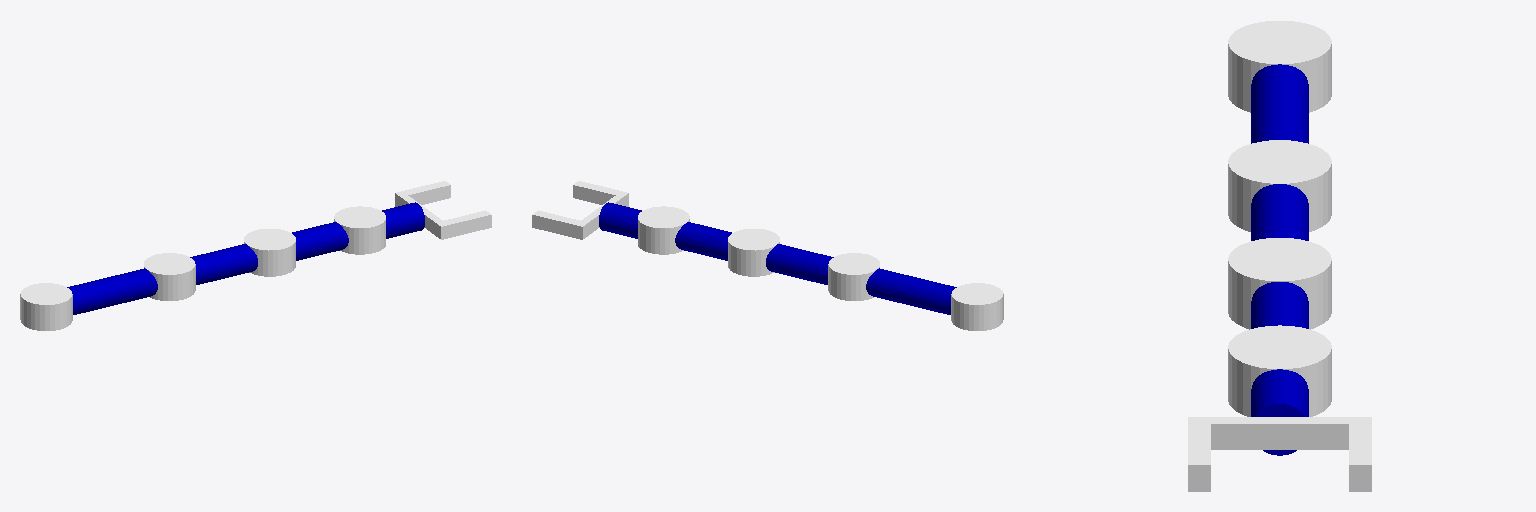
The robot description file, URDF, robot "planar4dof":
<?xml version="1.0" ?>
<!-- =================================================================================== -->
<!-- |    This document was autogenerated by xacro from planar4dof.xacro               | -->
<!-- |    EDITING THIS FILE BY HAND IS NOT RECOMMENDED                                 | -->
<!-- =================================================================================== -->
<!-- Planar 4DoF robot (based on Revolute-Revolute Manipulator) -->
<robot name="planar4dof" xmlns:xacro="http://www.ros.org/wiki/xacro">
    <material name="black">
        <color rgba="0.0 0.0 0.0 1.0"/>
    </material>
    <material name="blue">
        <color rgba="0.0 0.0 0.8 1.0"/>
    </material>
    <material name="green">
        <color rgba="0.0 0.8 0.0 1.0"/>
    </material>
    <material name="grey">
        <color rgba="0.2 0.2 0.2 1.0"/>
    </material>
    <material name="orange">
        <color rgba="1.0 0.423529411765 0.0392156862745 1.0"/>
    </material>
    <material name="brown">
        <color rgba="0.870588235294 0.811764705882 0.764705882353 1.0"/>
    </material>
    <material name="red">
        <color rgba="0.8 0.0 0.0 1.0"/>
    </material>
    <material name="white">
        <color rgba="1.0 1.0 1.0 1.0"/>
    </material>
    <!-- Used for fixing robot to Gazebo 'base_link' -->
    <link name="world"/>
    <!--<joint name="fixed" type="fixed">-->
    <!--<parent link="world"/>-->
    <!--<child link="link1"/>-->
    <!--<origin xyz="0 0 ${base_z}" rpy="0 0 0"/>-->
    <!--</joint>-->
    <joint name="fixed" type="fixed">
        <parent link="world"/>
        <child link="base_link"/>
        <origin rpy="0 0 0" xyz="0 0 0.0"/>
    </joint>
    <link name="base_link">
        <collision>
            <origin rpy="0 0 0" xyz="0 0 0.015"/>
            <geometry>
                <cylinder length="0.03" radius="0.01"/>
            </geometry>
        </collision>
        <visual>
            <origin rpy="0 0 0" xyz="0 0 0.015"/>
            <geometry>
                <cylinder length="0.03" radius="0.01"/>
            </geometry>
            <material name="black"/>
        </visual>
        <inertial>
            <origin rpy="0 0 0" xyz="0 0 0.015"/>
            <mass value="1.47969013984"/>
            <inertia ixx="0.000147969013984" ixy="0.0" ixz="0.0"
                     iyy="0.000147969013984" iyz="0.0" izz="7.3984506992e-05"/>
        </inertial>
    </link>
<!--    <joint name="joint0" type="continuous">-->
    <joint name="joint0" type="revolute">
        <parent link="base_link"/>
        <child link="coupler0"/>
        <origin rpy="0 0 0" xyz="0 0 0.04"/>
        <limit effort="100.0" lower="-2.18" upper="2.18" velocity="0.5"/>
        <axis xyz="0 0 1"/>
        <dynamics damping="0.7"/>
    </joint>
    <link name="coupler0">
        <collision>
            <origin rpy="0 0 0" xyz="0 0 0"/>
            <geometry>
                <!--<sphere radius="${radius_axel}"/>-->
                <cylinder length="0.05" radius="0.045"/>
            </geometry>
        </collision>
        <visual>
            <origin rpy="0 0 0" xyz="0 0 0"/>
            <geometry>
                <!--<sphere radius="${radius_axel}"/>-->
                <cylinder length="0.05" radius="0.045"/>
            </geometry>
            <material name="white"/>
        </visual>
        <inertial>
            <origin rpy="0 0 0" xyz="0 0 0"/>
            <mass value="0.001"/>
            <inertia ixx="0.001" ixy="0.0" ixz="0.0" iyy="0.001" iyz="0.0"
                     izz="0.001"/>
        </inertial>
    </link>
    <joint name="coupler_joint0" type="fixed">
        <parent link="coupler0"/>
        <child link="link1"/>
        <origin rpy="0 0 0" xyz="0 0 0"/>
    </joint>
    <!-- Base Link -->
    <link name="link1">
        <collision>
            <origin rpy="1.57079632679 0 1.57079632679" xyz="0.105 0 0"/>
            <geometry>
                <cylinder length="0.21" radius="0.025"/>
            </geometry>
        </collision>
        <visual>
            <origin rpy="1.57079632679 0 1.57079632679" xyz="0.105 0 0"/>
            <geometry>
                <cylinder length="0.21" radius="0.025"/>
            </geometry>
            <material name="blue"/>
        </visual>
        <inertial>
            <origin rpy="1.57079632679 0 1.57079632679" xyz="0.105 0 0"/>
            <mass value="0.890641517293"/>
            <inertia ixx="0.00341227031313" ixy="0.0" ixz="0.0"
                     iyy="0.00341227031313" iyz="0.0" izz="0.000278325474154"/>
        </inertial>
    </link>
    <!--<joint name="joint1" type="continuous">-->
    <!--<parent link="link1"/>-->
    <!--<child link="link2"/>-->
    <!--<origin xyz="${height1 + axel_offset} 0 0" rpy="0 0 0"/>-->
    <!--<axis xyz="0 0 1"/>-->
    <!--<dynamics damping="0.7"/>-->
    <!--</joint>-->
    <joint name="joint1" type="revolute">
        <parent link="link1"/>
        <child link="coupler1"/>
        <origin rpy="0 0 0" xyz="0.245 0 0"/>
        <limit effort="100.0" lower="-2.18" upper="2.18" velocity="0.5"/>
        <axis xyz="0 0 1"/>
        <dynamics damping="0.7"/>
    </joint>
    <link name="coupler1">
        <collision>
            <origin rpy="0 0 0" xyz="0 0 0"/>
            <geometry>
                <cylinder length="0.05" radius="0.045"/>
            </geometry>
        </collision>
        <visual>
            <origin rpy="0 0 0" xyz="0 0 0"/>
            <geometry>
                <cylinder length="0.05" radius="0.045"/>
            </geometry>
            <material name="white"/>
        </visual>
        <inertial>
            <origin rpy="0 0 0" xyz="0 0 0"/>
            <mass value="0.001"/>
            <inertia ixx="1.0" ixy="0.0" ixz="0.0" iyy="1.0" iyz="0.0"
                     izz="1.0"/>
        </inertial>
    </link>
    <joint name="coupler_joint1" type="fixed">
        <parent link="coupler1"/>
        <child link="link2"/>
        <origin rpy="0 0 0" xyz="0.035 0 0"/>
    </joint>
    <!--Middle Link-->
    <link name="link2">
        <collision>
            <origin rpy="1.57079632679 0 1.57079632679" xyz="0.065 0 0"/>
            <geometry>
                <cylinder length="0.13" radius="0.025"/>
            </geometry>
        </collision>
        <visual>
            <origin rpy="1.57079632679 0 1.57079632679" xyz="0.065 0 0"/>
            <geometry>
                <cylinder length="0.13" radius="0.025"/>
            </geometry>
            <material name="blue"/>
        </visual>
        <inertial>
            <origin rpy="1.57079632679 0 1.57079632679" xyz="0.065 0 0"/>
            <mass value="0.551349510705"/>
            <inertia ixx="0.000862632255291" ixy="0.0" ixz="0.0"
                     iyy="0.000862632255291" iyz="0.0"
                     izz="0.000172296722095"/>
        </inertial>
    </link>
    <!--<joint name="joint2" type="continuous">-->
    <!--<parent link="link2"/>-->
    <!--<child link="link3"/>-->
    <!--<origin xyz="${height2 + axel_offset*2} 0.1 0.1" rpy="0 0 0"/>-->
    <!--<axis xyz="0 0 1"/>-->
    <!--<dynamics damping="0.7"/>-->
    <!--</joint>-->
    <joint name="joint2" type="revolute">
        <parent link="link2"/>
        <child link="coupler2"/>
        <origin rpy="0 0 0" xyz="0.165 0 0"/>
        <limit effort="100.0" lower="-2.18" upper="2.18" velocity="0.5"/>
        <axis xyz="0 0 1"/>
        <dynamics damping="0.7"/>
    </joint>
    <link name="coupler2">
        <collision>
            <origin rpy="0 0 0" xyz="0 0 0"/>
            <geometry>
                <cylinder length="0.05" radius="0.045"/>
            </geometry>
        </collision>
        <visual>
            <origin rpy="0 0 0" xyz="0 0 0"/>
            <geometry>
                <cylinder length="0.05" radius="0.045"/>
            </geometry>
            <material name="white"/>
        </visual>
        <inertial>
            <origin rpy="0 0 0" xyz="0 0 0"/>
            <mass value="0.001"/>
            <inertia ixx="1.0" ixy="0.0" ixz="0.0" iyy="1.0" iyz="0.0"
                     izz="1.0"/>
        </inertial>
    </link>
    <joint name="coupler_joint2" type="fixed">
        <parent link="coupler2"/>
        <child link="link3"/>
        <origin rpy="0 0 0" xyz="0.035 0 0"/>
    </joint>
    <!--Top Link-->
    <link name="link3">
        <collision>
            <origin rpy="1.57079632679 0 1.57079632679" xyz="0.055 0 0"/>
            <geometry>
                <cylinder length="0.11" radius="0.025"/>
            </geometry>
        </collision>
        <visual>
            <origin rpy="1.57079632679 0 1.57079632679" xyz="0.055 0 0"/>
            <geometry>
                <cylinder length="0.11" radius="0.025"/>
            </geometry>
            <material name="blue"/>
        </visual>
        <inertial>
            <origin rpy="1.57079632679 0 1.57079632679" xyz="0.055 0 0"/>
            <mass value="0.466526509058"/>
            <inertia ixx="0.000543308997007" ixy="0.0" ixz="0.0"
                     iyy="0.000543308997007" iyz="0.0"
                     izz="0.000145789534081"/>
        </inertial>
    </link>
    <joint name="joint3" type="revolute">
        <parent link="link3"/>
        <child link="coupler3"/>
        <origin rpy="0 0 0" xyz="0.145 0 0"/>
        <limit effort="100.0" lower="-2.18" upper="2.18" velocity="0.5"/>
        <axis xyz="0 0 1"/>
        <dynamics damping="0.7"/>
    </joint>
    <link name="coupler3">
        <collision>
            <origin rpy="0 0 0" xyz="0 0 0"/>
            <geometry>
                <cylinder length="0.05" radius="0.045"/>
            </geometry>
        </collision>
        <visual>
            <origin rpy="0 0 0" xyz="0 0 0"/>
            <geometry>
                <cylinder length="0.05" radius="0.045"/>
            </geometry>
            <material name="white"/>
        </visual>
        <inertial>
            <origin rpy="0 0 0" xyz="0 0 0"/>
            <mass value="0.001"/>
            <inertia ixx="1.0" ixy="0.0" ixz="0.0" iyy="1.0" iyz="0.0"
                     izz="1.0"/>
        </inertial>
    </link>
    <joint name="coupler_joint3" type="fixed">
        <parent link="coupler3"/>
        <child link="link4"/>
        <origin rpy="0 0 0" xyz="0.035 0 0"/>
    </joint>
    <!--Top Link-->
    <link name="link4">
        <collision>
            <origin rpy="1.57079632679 0 1.57079632679" xyz="0.04 0 0"/>
            <geometry>
                <cylinder length="0.08" radius="0.025"/>
            </geometry>
        </collision>
        <visual>
            <origin rpy="1.57079632679 0 1.57079632679" xyz="0.04 0 0"/>
            <geometry>
                <cylinder length="0.08" radius="0.025"/>
            </geometry>
            <material name="blue"/>
        </visual>
        <inertial>
            <origin rpy="1.57079632679 0 1.57079632679" xyz="0.04 0 0"/>
            <mass value="0.339292006588"/>
            <inertia ixx="0.000233970112876" ixy="0.0" ixz="0.0"
                     iyy="0.000233970112876" iyz="0.0"
                     izz="0.000106028752059"/>
        </inertial>
    </link>
    <joint name="gripper_joint" type="fixed">
        <parent link="link4"/>
        <child link="gripper"/>
        <origin rpy="0 0 0" xyz="0.08 0 0"/>
    </joint>
    <link name="gripper">
        <visual>
            <origin rpy="1.57079632679 0 1.57079632679" xyz="0.0075 0 0"/>
            <geometry>
                <box size="0.16 0.025 0.015"/>
            </geometry>
            <material name="white"/>
        </visual>
        <visual>
            <origin rpy="1.57079632679 0 1.57079632679" xyz="0.0575 0.07 0"/>
            <geometry>
                <box size="0.02 0.025 0.085"/>
            </geometry>
            <material name="white"/>
        </visual>
        <visual>
            <origin rpy="1.57079632679 0 1.57079632679" xyz="0.0575 -0.07 0"/>
            <geometry>
                <box size="0.02 0.025 0.085"/>
            </geometry>
            <material name="white"/>
        </visual>
        <collision>
            <origin rpy="1.57079632679 0 1.57079632679" xyz="0.0075 0 0"/>
            <geometry>
                <box size="0.16 0.025 0.015"/>
            </geometry>
            <material name="white"/>
        </collision>
        <collision>
            <origin rpy="1.57079632679 0 1.57079632679" xyz="0.0575 0.07 0"/>
            <geometry>
                <box size="0.02 0.025 0.085"/>
            </geometry>
            <material name="white"/>
        </collision>
        <collision>
            <origin rpy="1.57079632679 0 1.57079632679" xyz="0.0575 -0.07 0"/>
            <geometry>
                <box size="0.02 0.025 0.085"/>
            </geometry>
            <material name="white"/>
        </collision>
        <inertial>
            <origin rpy="0 0 0" xyz="0 0 0"/>
            <mass value="0.1"/>
            <inertia ixx="1.0" ixy="0.0" ixz="0.0" iyy="1.0" iyz="0.0"
                     izz="1.0"/>
        </inertial>
    </link>
    <joint name="gripper_center_joint" type="fixed">
        <parent link="gripper"/>
        <child link="gripper_center"/>
        <origin rpy="0 0 0" xyz="0.06 0 0"/>
    </joint>
    <link name="gripper_center">
        <!--<visual>-->
        <!--<origin xyz="0 0 0" rpy="0 0 0"/>-->
        <!--<geometry>-->
        <!--<cylinder length="${height_axel}" radius="${radius_axel}"/>-->
        <!--</geometry>-->
        <!--<material name="white"/>-->
        <!--</visual>-->
        <inertial>
            <origin rpy="0 0 0" xyz="0 0 0"/>
            <mass value="0.001"/>
            <inertia ixx="0.001" ixy="0.0" ixz="0.0" iyy="0.001" iyz="0.0"
                     izz="0.001"/>
        </inertial>
    </link>
    <transmission name="tran0">
        <type>transmission_interface/SimpleTransmission</type>
        <joint name="joint0">
            <hardwareInterface>hardware_interface/EffortJointInterface
            </hardwareInterface>
        </joint>
        <actuator name="motor0">
            <hardwareInterface>hardware_interface/EffortJointInterface
            </hardwareInterface>
            <mechanicalReduction>1</mechanicalReduction>
        </actuator>
    </transmission>
    <transmission name="tran1">
        <type>transmission_interface/SimpleTransmission</type>
        <joint name="joint1">
            <hardwareInterface>hardware_interface/EffortJointInterface
            </hardwareInterface>
        </joint>
        <actuator name="motor1">
            <hardwareInterface>hardware_interface/EffortJointInterface
            </hardwareInterface>
            <mechanicalReduction>1</mechanicalReduction>
        </actuator>
    </transmission>
    <transmission name="tran2">
        <type>transmission_interface/SimpleTransmission</type>
        <joint name="joint2">
            <hardwareInterface>hardware_interface/EffortJointInterface
            </hardwareInterface>
        </joint>
        <actuator name="motor2">
            <hardwareInterface>hardware_interface/EffortJointInterface
            </hardwareInterface>
            <mechanicalReduction>1</mechanicalReduction>
        </actuator>
    </transmission>
    <transmission name="tran3">
        <type>transmission_interface/SimpleTransmission</type>
        <joint name="joint3">
            <hardwareInterface>hardware_interface/EffortJointInterface
            </hardwareInterface>
        </joint>
        <actuator name="motor3">
            <hardwareInterface>hardware_interface/EffortJointInterface
            </hardwareInterface>
            <mechanicalReduction>1</mechanicalReduction>
        </actuator>
    </transmission>
</robot>

--- Render facts (derived) ---
The picture shows the robot from 3 angles, left to right: view 1: azimuth 30°, elevation 25°; view 2: azimuth 150°, elevation 25°; view 3: azimuth 270°, elevation 25°; orthographic projection.
Robot: planar4dof — 12 links, 11 joints (4 revolute, 7 fixed); root link world; default pose: all joints at 0.
Links seen in each view (by area): view 1: link1, coupler0, gripper, coupler1, coupler2, coupler3, link2, link3, link4; view 2: link1, coupler0, gripper, coupler1, coupler2, coupler3, link2, link3, link4; view 3: gripper, coupler1, coupler0, coupler3, coupler2, link1, link2, link4, link3.
Link boxes in pixels (x1,y1,x2,y2): link1: [67, 268, 157, 314]; coupler0: [20, 283, 72, 330]; gripper: [395, 181, 491, 239]; coupler1: [144, 253, 195, 300]; coupler2: [244, 229, 295, 276]; coupler3: [334, 206, 385, 254]; link2: [190, 244, 257, 284]; link3: [292, 222, 348, 260]; link4: [382, 202, 424, 238]; link1: [866, 268, 956, 314]; coupler0: [951, 283, 1003, 330]; gripper: [532, 181, 628, 239]; coupler1: [828, 253, 879, 300]; coupler2: [728, 229, 779, 276]; coupler3: [638, 206, 689, 254]; link2: [766, 244, 833, 284]; link3: [675, 222, 731, 260]; link4: [599, 202, 641, 238]; gripper: [1188, 417, 1371, 491]; coupler1: [1228, 140, 1331, 231]; coupler0: [1228, 21, 1331, 112]; coupler3: [1228, 325, 1331, 416]; coupler2: [1228, 238, 1331, 329]; link1: [1251, 64, 1308, 143]; link2: [1251, 184, 1308, 240]; link4: [1251, 369, 1308, 455]; link3: [1251, 282, 1308, 328].
Bounding box of the posed robot: 0.885 × 0.16 × 0.065 m (x, y, z).
Geometry: primitives only (box / cylinder / sphere), no mesh files.
